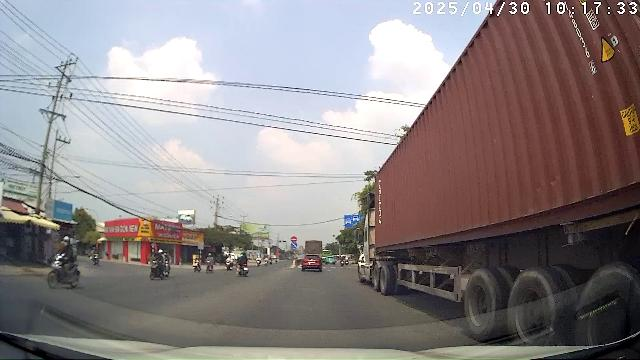102-cam-di-nguoc-chieu: (291, 236, 297, 242)
302a-huong-phai-di-vong-chuong-ngai-vat-1: (291, 242, 298, 248)
